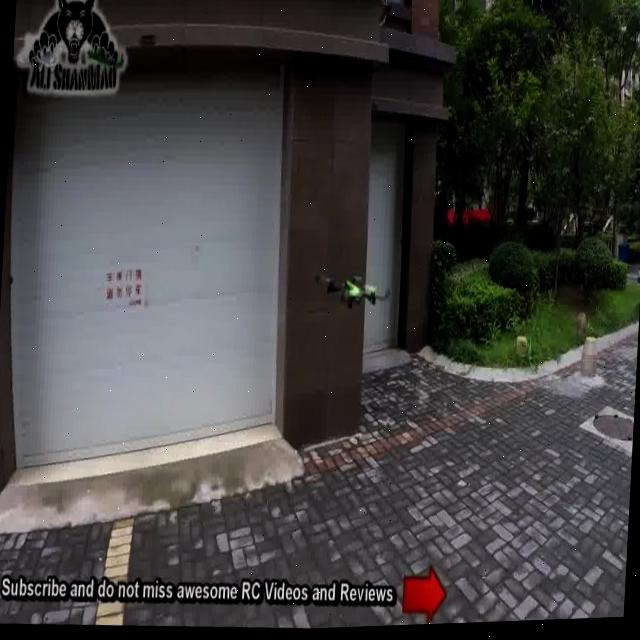drone: (318, 253, 394, 327)
